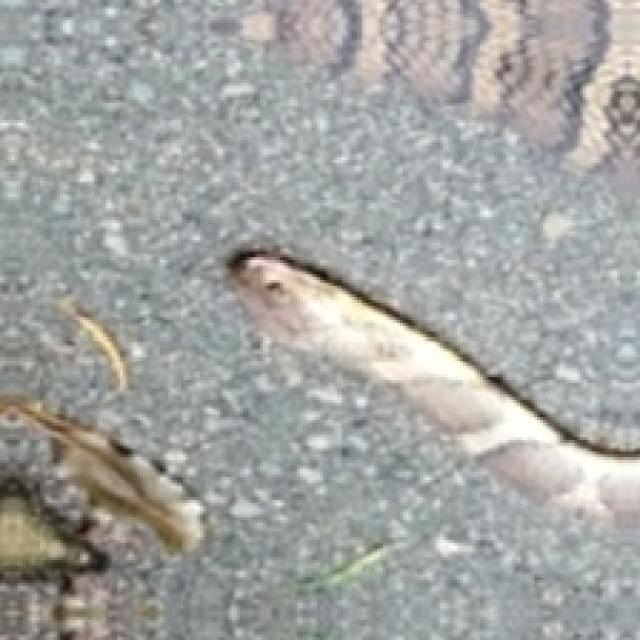king cobra: (229, 249, 637, 523), (229, 251, 637, 523), (243, 0, 637, 169), (0, 394, 200, 637)
